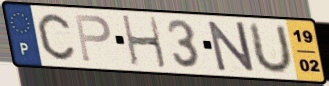3: (166, 18, 204, 70)
C: (35, 12, 77, 62)
H: (120, 14, 169, 70)
N: (206, 20, 257, 73)
P: (72, 13, 113, 64)
U: (248, 21, 295, 76)
